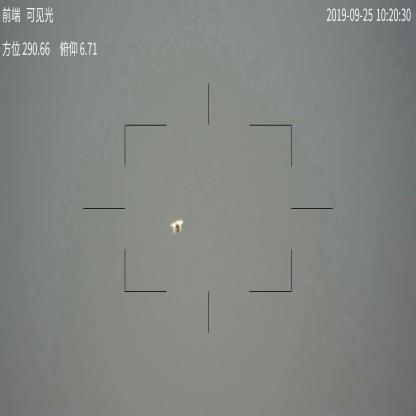uav: (169, 218, 184, 236)
